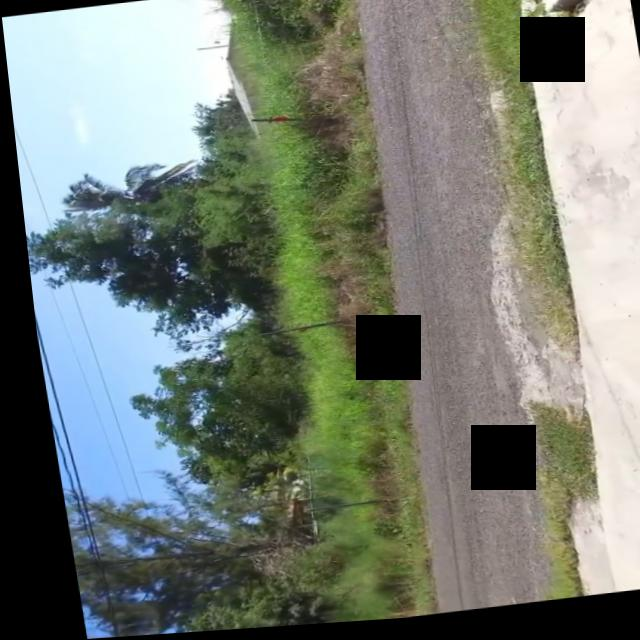Pole: (239, 311, 343, 345), (246, 112, 307, 132), (293, 501, 364, 517)
